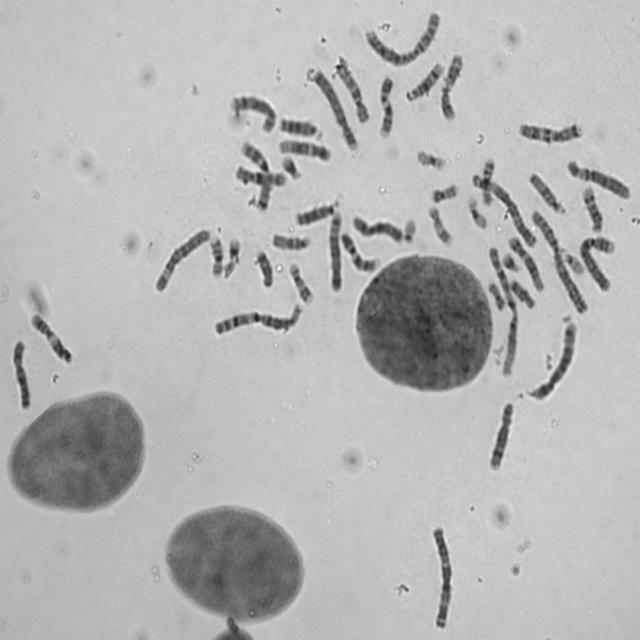A1: (483, 238, 521, 379), (208, 296, 305, 338)
A2: (526, 203, 590, 316), (360, 4, 442, 68)
A3: (466, 167, 538, 249), (426, 518, 455, 631)
B4: (305, 62, 360, 152), (576, 228, 618, 294)
B5: (525, 315, 580, 402), (323, 205, 345, 294)
C10: (331, 56, 371, 125), (230, 158, 289, 188)
C11: (25, 307, 74, 365), (435, 46, 465, 122)
C12: (504, 230, 546, 293), (274, 132, 333, 163)
C6: (149, 221, 212, 294), (562, 153, 633, 201)
C7: (235, 133, 274, 213), (513, 114, 584, 144)
C8: (484, 396, 516, 474), (225, 88, 278, 134)
C9: (336, 225, 381, 273), (374, 70, 396, 139)
D13: (290, 195, 341, 228), (274, 109, 325, 142)
D14: (401, 56, 446, 103), (578, 180, 604, 234)
D15: (524, 165, 566, 215), (267, 226, 313, 253)
E16: (477, 153, 497, 207), (205, 230, 224, 279)
E17: (284, 256, 316, 305), (423, 199, 455, 247)
E18: (504, 272, 538, 311), (250, 243, 275, 290)
F19: (462, 190, 490, 230), (412, 142, 448, 172)
F20: (426, 176, 461, 204), (484, 275, 507, 312)
G21: (277, 150, 303, 181), (497, 246, 523, 274)
G22: (556, 242, 586, 278), (398, 211, 418, 245)
X: (348, 208, 406, 244), (7, 332, 33, 411)
